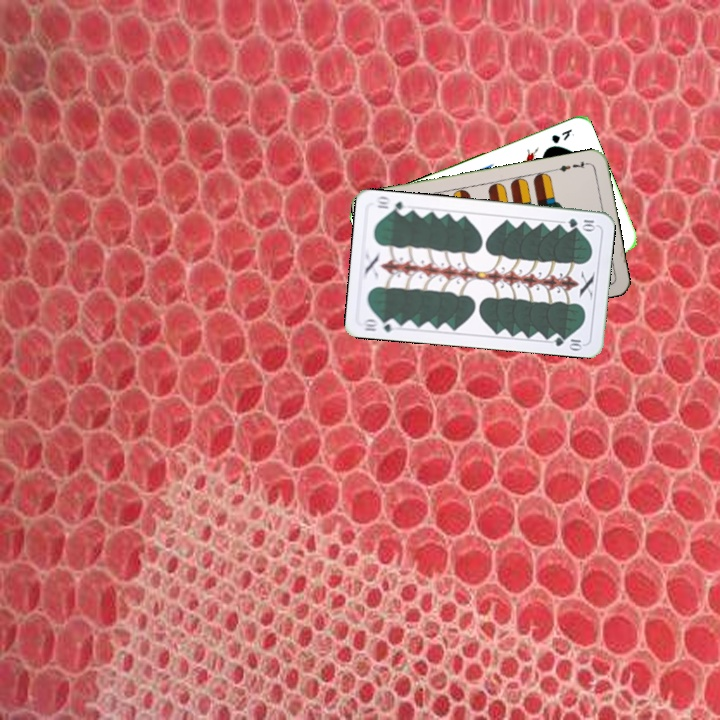E7: (551, 157, 591, 174)
G10: (360, 314, 401, 335), (564, 214, 598, 232)
GK: (547, 125, 577, 146)
